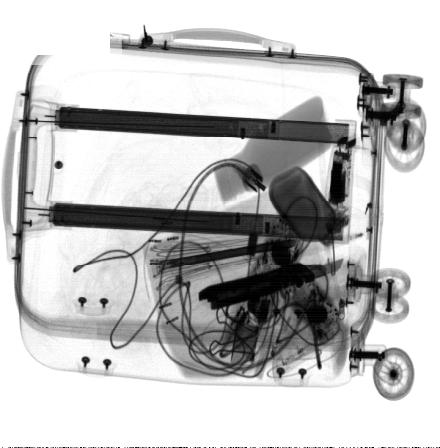Knife: (198, 259, 344, 310)
